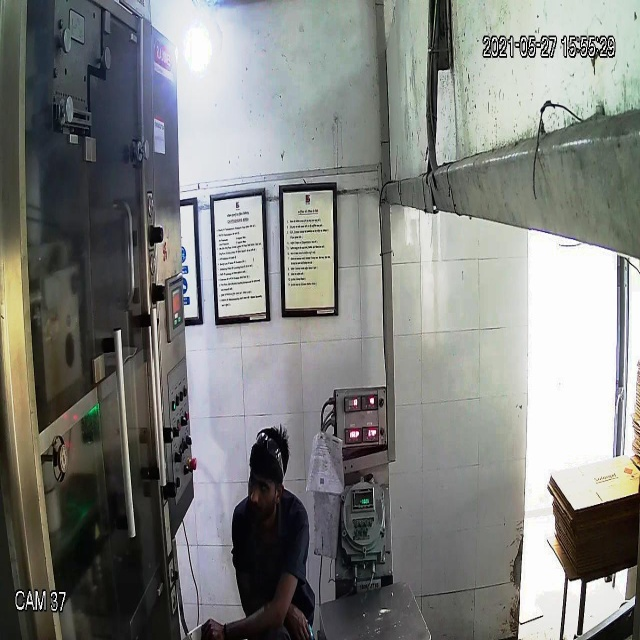Sin_gafas: (246, 472, 280, 498)
